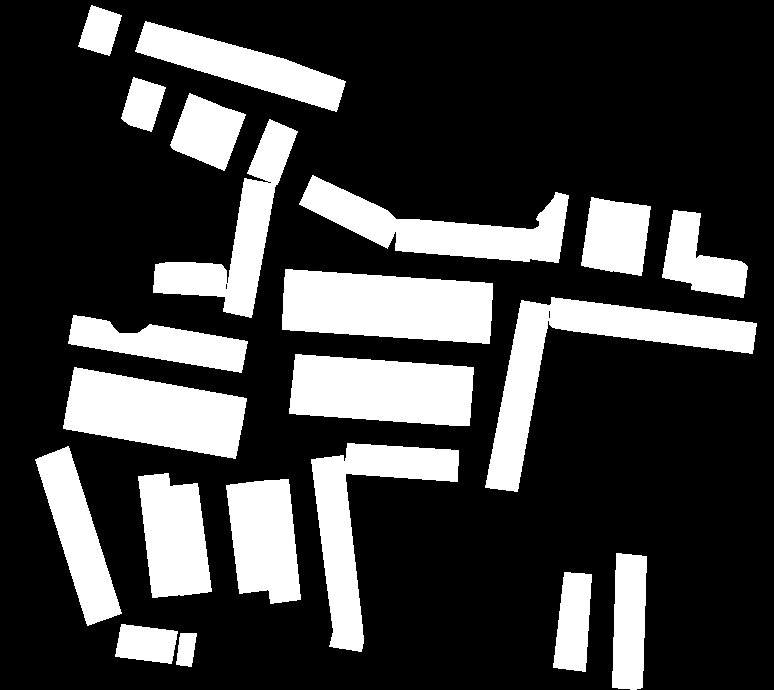parkingspot: (135, 21, 345, 111), (35, 446, 121, 625), (485, 300, 549, 491), (549, 297, 756, 353), (68, 367, 246, 429), (63, 397, 241, 458), (68, 315, 247, 372), (311, 455, 363, 651), (283, 269, 492, 315), (282, 299, 491, 343), (292, 354, 473, 398), (289, 383, 471, 425), (299, 175, 399, 248), (223, 178, 275, 317), (395, 219, 531, 261), (255, 479, 300, 603), (138, 473, 182, 597), (167, 483, 211, 595), (226, 481, 270, 593), (612, 553, 646, 689), (344, 443, 458, 481), (553, 572, 591, 671), (195, 105, 245, 170), (247, 119, 297, 184), (170, 93, 219, 159), (581, 197, 622, 271), (610, 202, 650, 275), (527, 192, 568, 262), (662, 210, 700, 283), (153, 262, 226, 296), (115, 624, 177, 663), (121, 77, 165, 131), (691, 255, 747, 297), (78, 5, 121, 55), (176, 633, 196, 666)
